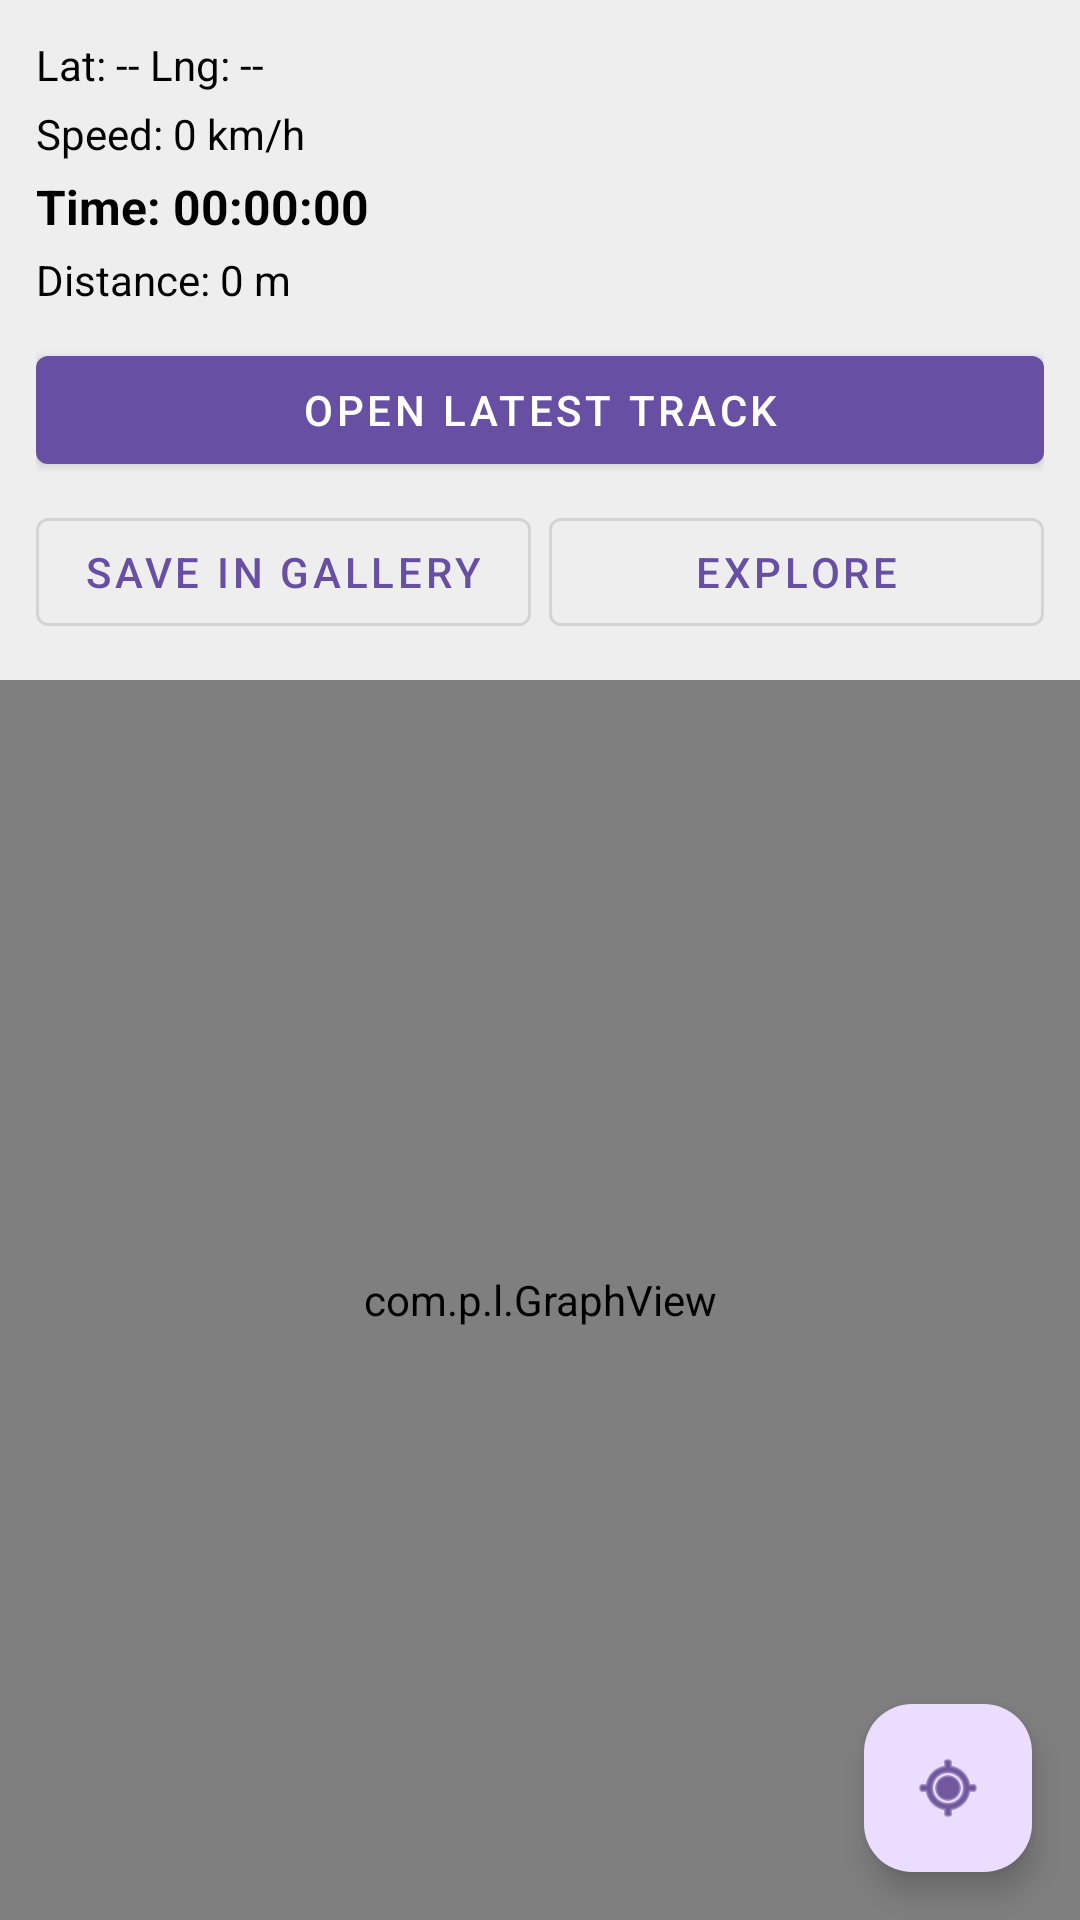

Icon bounding boxes for this 1080px x 1920px phone screenshot, format (x1, y1, x2, y2):
My Location: (864, 1704, 1032, 1872)
